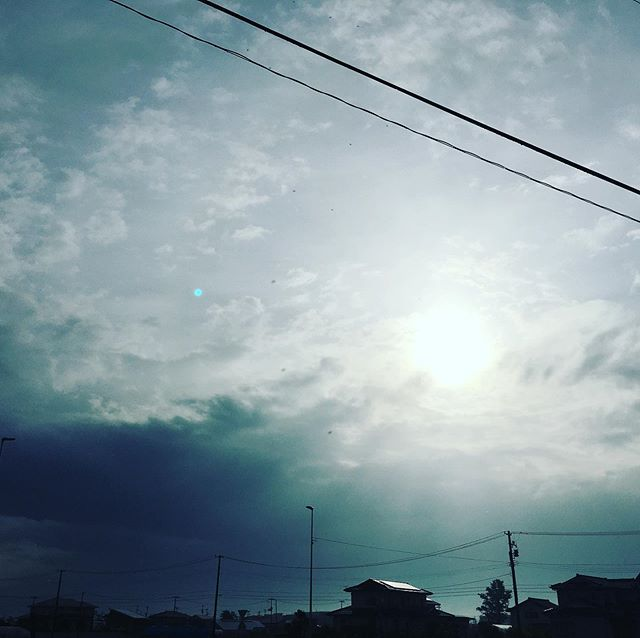building: (337, 578, 450, 638), (541, 564, 630, 638), (1, 587, 103, 638)
sky: (1, 1, 615, 554)
